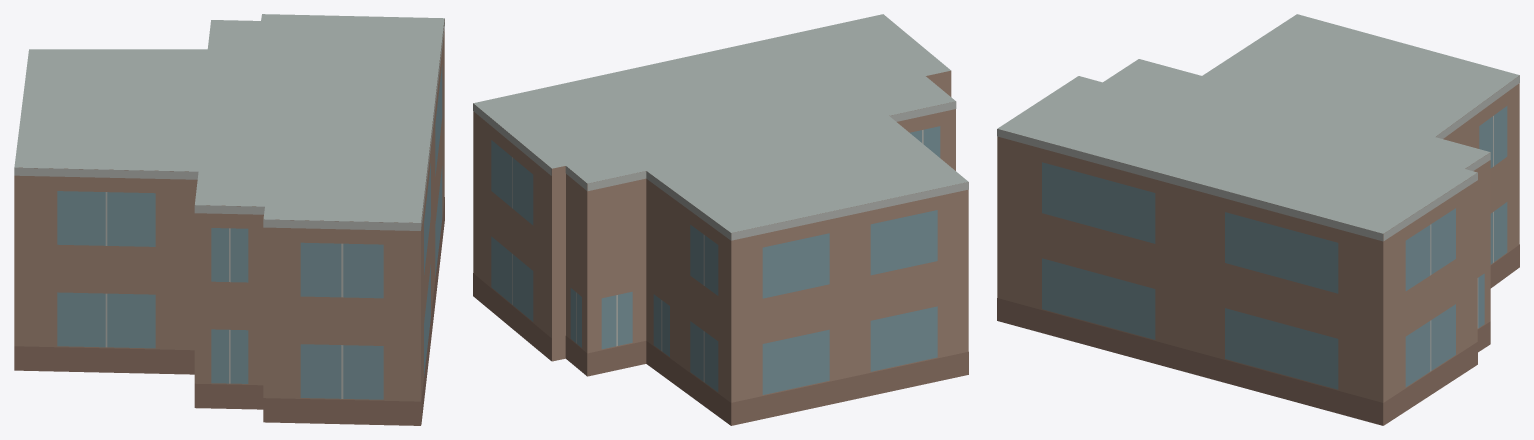
File: survey-upis-32781728.glb
3 views of the same model, side by side, from view 1: azimuth 30°, elevation 25°; view 2: azimuth 150°, elevation 25°; view 3: azimuth 270°, elevation 25° (orthographic). The views are drawn at different scales.
Parts seen in each view (by area): view 1: survey-upis-32781728.tmp; view 2: survey-upis-32781728.tmp; view 3: survey-upis-32781728.tmp.
Boxes of the visible parts, x1,y1,x2,y2 form: survey-upis-32781728.tmp: [14, 14, 444, 425]; survey-upis-32781728.tmp: [473, 14, 968, 425]; survey-upis-32781728.tmp: [997, 14, 1519, 425].
Size of the model in its own units: 14.98 by 6.1 by 15.05.
